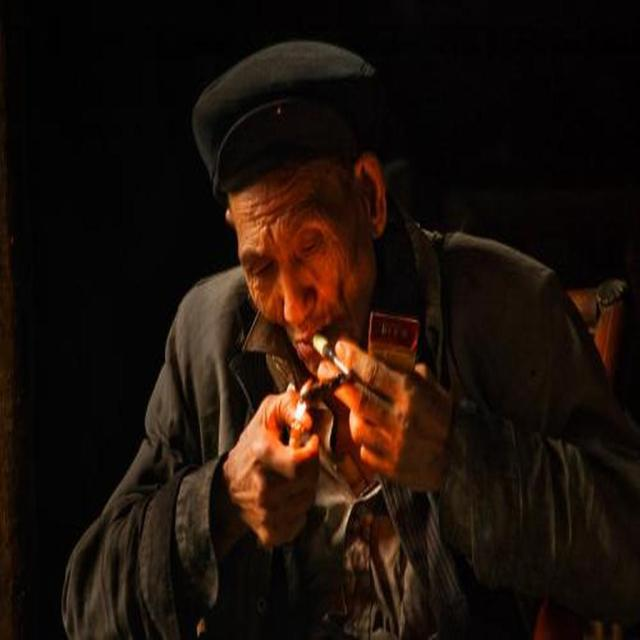smoking: (209, 128, 436, 546)
